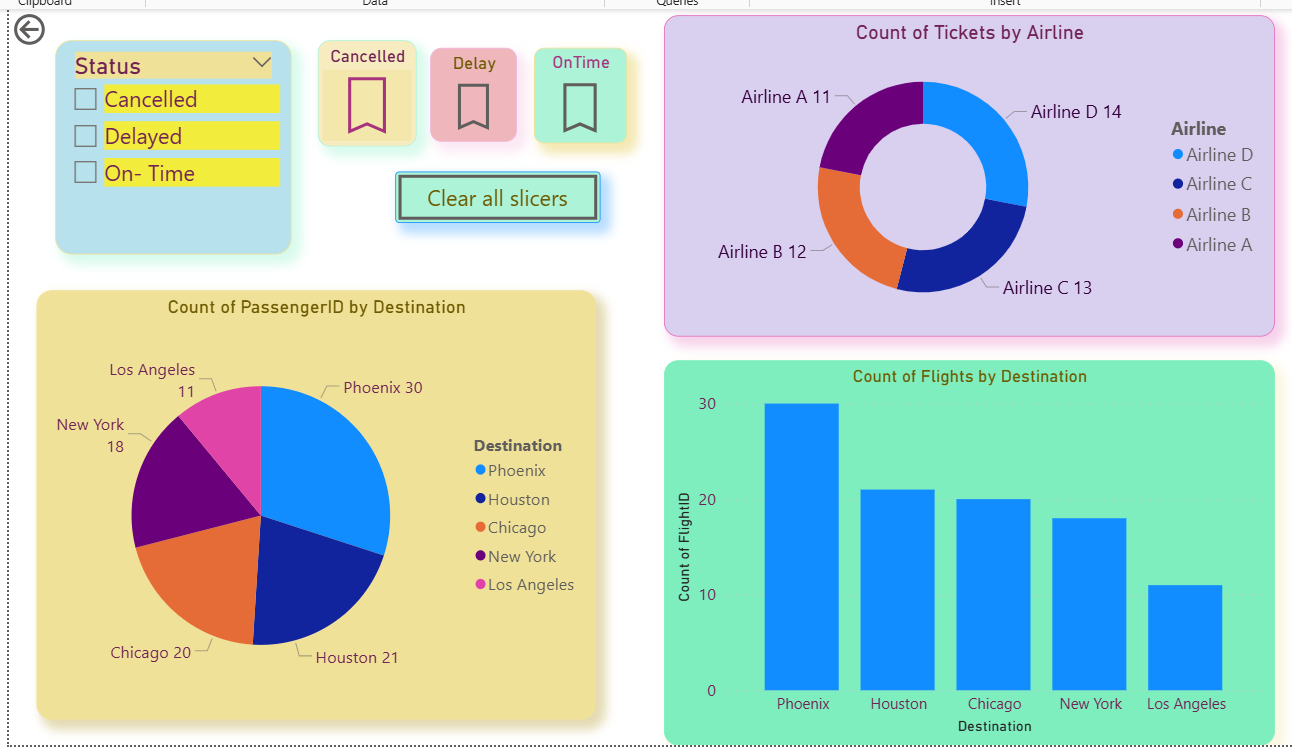

This screenshot's page, from the dashboard's own definition file:
{"tool":"powerbi","page":{"name":"Task9.2","canvas":[1280,720],"ordinal":5},"visuals":[{"type":"slicer","fields":{"Values":["Fight_Information - flight_information.Status"]},"box":[44.7,30.3,230.8,209.2],"z":0},{"type":"actionButton","title":"Cancelled","box":[301.5,30.3,96.7,103.9],"z":1000},{"type":"actionButton","box":[378,158.7,200.5,50.5],"z":2000},{"type":"donutChart","title":"Count of Tickets by Airline","fields":{"Category":["Fight_Information - flight_information.Airline"],"Y":["CountNonNull(Ticket_Information - ticket_information.TicketID)"]},"box":[640.6,5.8,597.3,314.5],"z":3000},{"type":"pieChart","fields":{"Category":["Fight_Information - flight_information.Destination"],"Y":["CountNonNull(Passenger_Information - passenger_information.PassengerID)"]},"box":[27.4,275.6,546.8,419.8],"z":4000},{"type":"columnChart","title":"Count of Flights by Destination","fields":{"Category":["Fight_Information - flight_information.Destination"],"Y":["CountNonNull(Passenger_Information - passenger_information.FlightID)"]},"box":[640.6,343.4,597.3,376.6],"z":5000},{"type":"actionButton","title":"Delay","box":[412.6,37.5,85.1,92.3],"z":6000},{"type":"actionButton","title":"OnTime","box":[513.6,37.5,90.9,93.8],"z":7000},{"type":"actionButton","box":[0,0,100,40],"z":8000}]}

Visuals, with their boxes on the page's 1280x720 design canvas (x1, y1, x2, y2). These are canvas units, not pixel positions in the 1292x755 screenshot, which may show the page scaled, cropped or inside an application window:
slicer - Fight_Information - flight_information.Status: left=45, top=30, right=276, bottom=240
"Cancelled" actionButton: left=302, top=30, right=398, bottom=134
actionButton: left=378, top=159, right=578, bottom=209
"Count of Tickets by Airline" donutChart: left=641, top=6, right=1238, bottom=320
pieChart - Fight_Information - flight_information.Destination x CountNonNull(Passenger_Information - passenger_information.PassengerID): left=27, top=276, right=574, bottom=695
"Count of Flights by Destination" columnChart: left=641, top=343, right=1238, bottom=720
"Delay" actionButton: left=413, top=38, right=498, bottom=130
"OnTime" actionButton: left=514, top=38, right=604, bottom=131
actionButton: left=0, top=0, right=100, bottom=40
